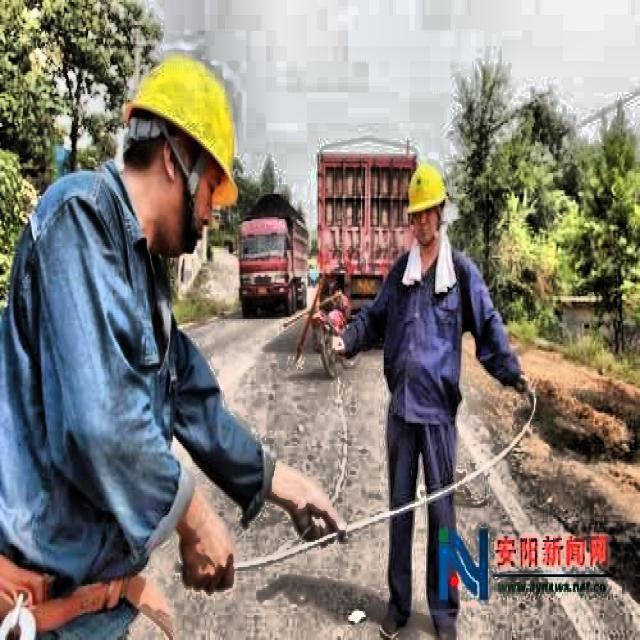helmet: (108, 37, 254, 265), (403, 150, 452, 259)
